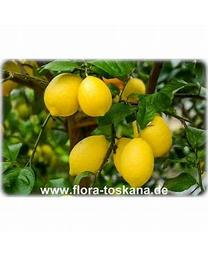lemon: (44, 73, 86, 117), (68, 133, 107, 175), (121, 138, 154, 187), (78, 75, 113, 116), (140, 115, 173, 158)
